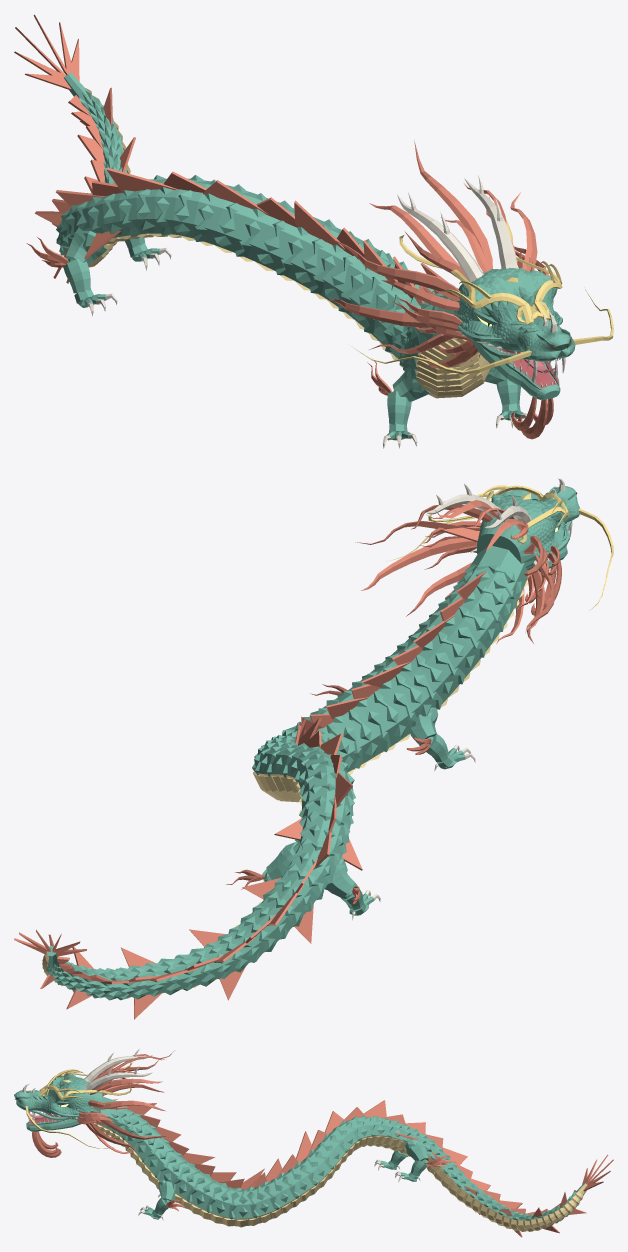
File: Dragon_Long_v17.glb
3 renders of one model, top to bottom at view 1: azimuth 30°, elevation 25°; view 2: azimuth 150°, elevation 25°; view 3: azimuth 270°, elevation 25°, orthographic. The views are drawn at different scales.
Parts seen in each view (by area): view 1: Body, Fins, Horns, Belly, Whiskers, Mouth; view 2: Body, Fins, Belly, Whiskers, Horns; view 3: Body, Fins, Belly, Horns, Whiskers.
Boxes of the visible parts, <box> form: Body: <box>56,72,575,440</box>; Fins: <box>14,14,553,439</box>; Horns: <box>88,175,565,448</box>; Belly: <box>85,88,490,398</box>; Whiskers: <box>351,219,613,374</box>; Mouth: <box>486,344,559,389</box>; Body: <box>46,486,579,1000</box>; Fins: <box>14,500,561,1019</box>; Belly: <box>42,580,527,998</box>; Whiskers: <box>386,485,613,611</box>; Horns: <box>352,478,572,920</box>; Body: <box>14,1074,585,1226</box>; Fins: <box>32,1050,613,1237</box>; Belly: <box>94,1123,587,1231</box>; Horns: <box>22,1049,420,1220</box>; Whiskers: <box>25,1062,131,1148</box>.
Bounding box in the file's own units: 16.49 × 19.72 × 58.04.
